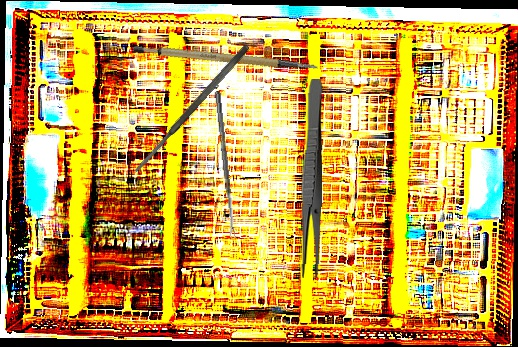Dressing Forceps: (299, 78, 324, 279)
Scalpel Handle: (131, 21, 320, 99)
Spatula Surgical: (130, 43, 252, 176)
Surgical Spoon: (214, 91, 236, 239)
